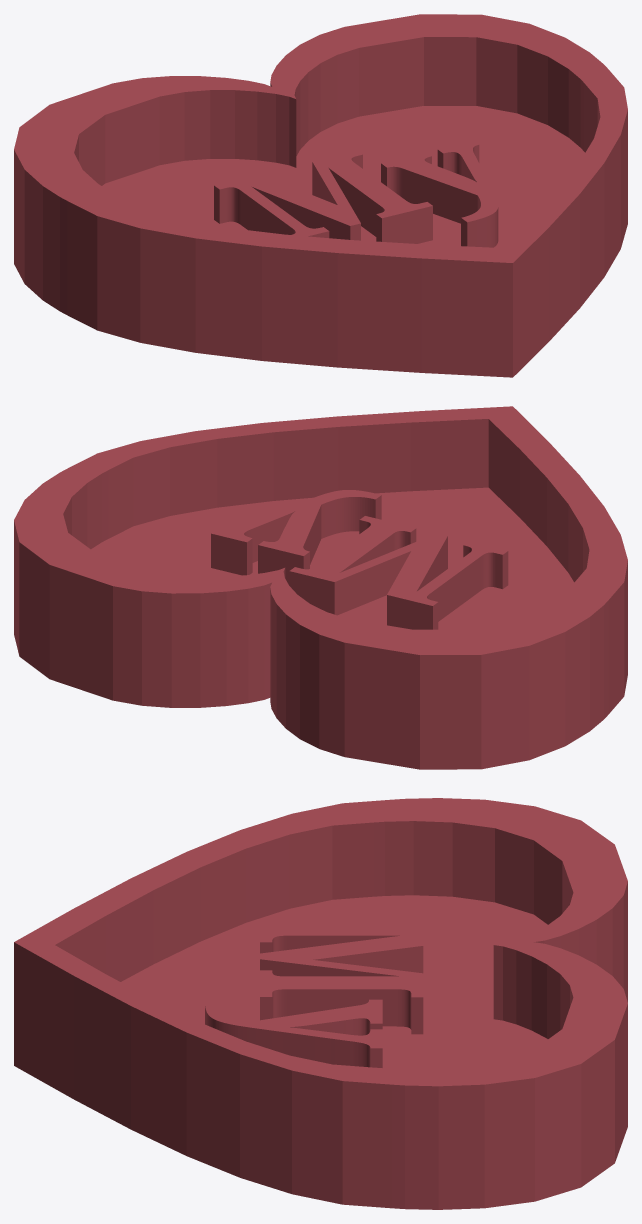
Rendered from asset.glb.
3 renders of one model, top to bottom at view 1: azimuth 30°, elevation 25°; view 2: azimuth 150°, elevation 25°; view 3: azimuth 270°, elevation 25°, orthographic. The views are drawn at different scales.
Visible parts, largest first — view 1: Mesh_Mesh_head_geo.001_lambert2SG.001; view 2: Mesh_Mesh_head_geo.001_lambert2SG.001; view 3: Mesh_Mesh_head_geo.001_lambert2SG.001.
Boxes of the visible parts, left/top/right/bottom form: Mesh_Mesh_head_geo.001_lambert2SG.001: left=14, top=14, right=627, bottom=377; Mesh_Mesh_head_geo.001_lambert2SG.001: left=14, top=406, right=627, bottom=769; Mesh_Mesh_head_geo.001_lambert2SG.001: left=14, top=798, right=627, bottom=1209.
Size of the model in its own units: 50 by 10 by 45.
